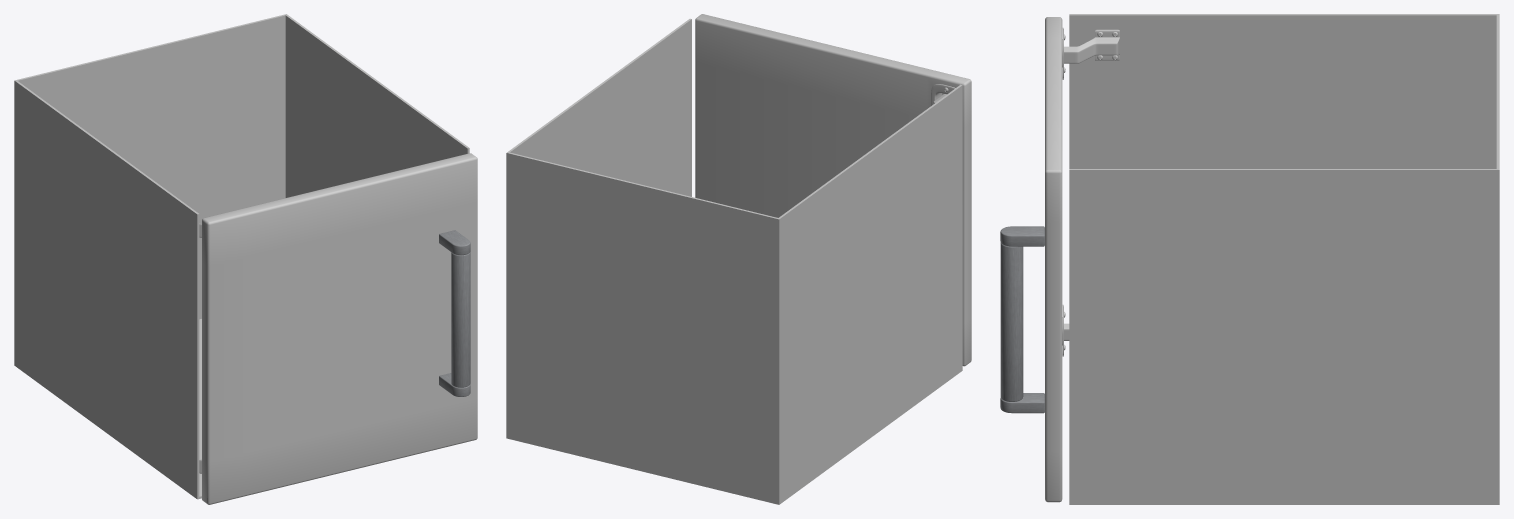
Rendered from Inlay-1.fbx.
3 views of the same model, side by side, from view 1: azimuth 30°, elevation 25°; view 2: azimuth 150°, elevation 25°; view 3: azimuth 270°, elevation 25° (orthographic). The views are drawn at different scales.
Visible parts, largest first — view 1: Innenleben, TuerFront, Griff; view 2: Innenleben, TuerFront; view 3: Innenleben, TuerFront, Griff, Scharniere.
Part boxes in pixels (x1,y1,x2,y2): Innenleben: (14, 14, 469, 499); TuerFront: (202, 153, 477, 504); Griff: (439, 230, 470, 396); Innenleben: (506, 18, 962, 504); TuerFront: (695, 14, 971, 366); Innenleben: (1069, 14, 1499, 504); TuerFront: (1045, 17, 1062, 502); Griff: (1000, 226, 1044, 413); Scharniere: (1064, 29, 1119, 340).
Size of the model in its own units: 32.24 by 32.25 by 43.55.
